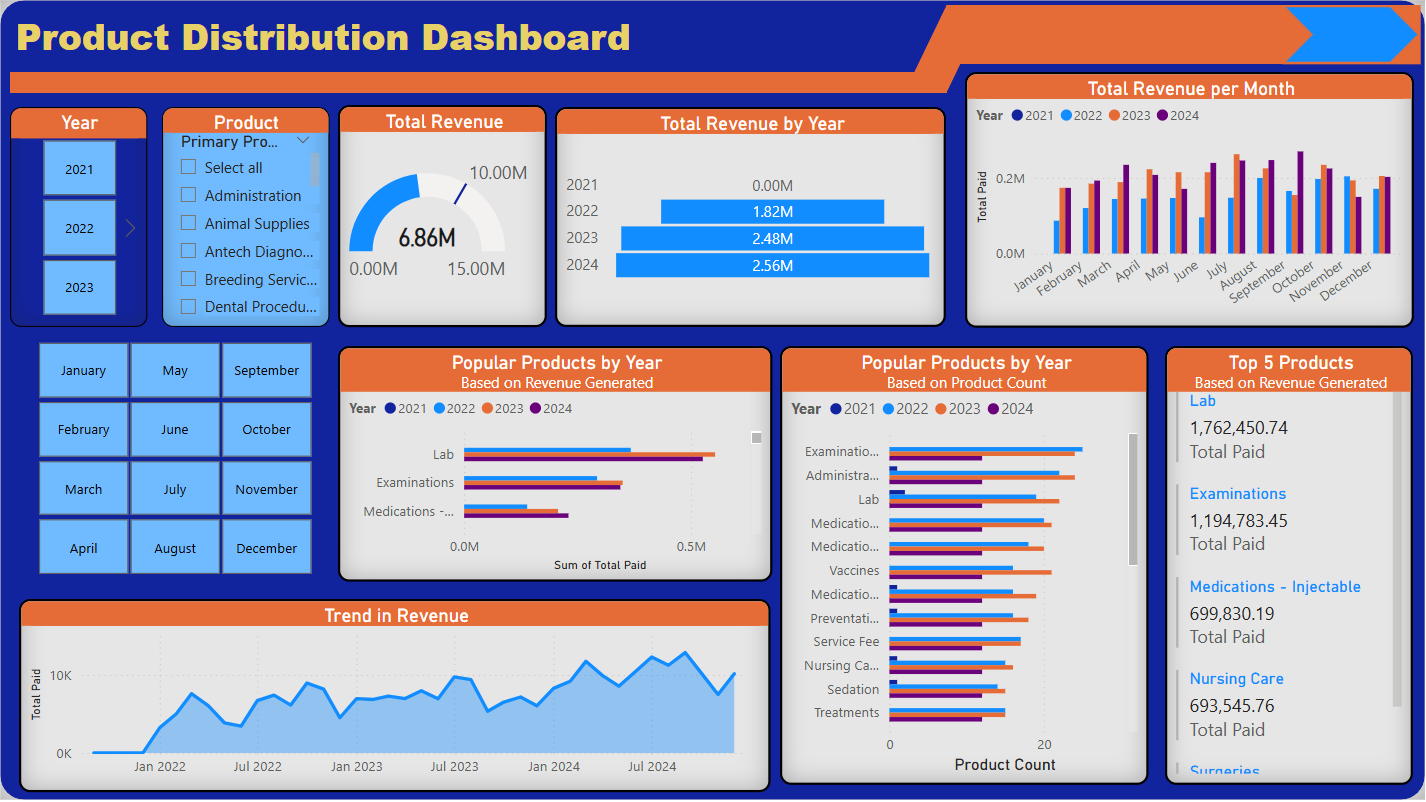

The page's visual inventory and layout, read from the dashboard file:
{"tool":"powerbi","page":{"name":"Products","canvas":[1280,720],"ordinal":1},"visuals":[{"type":"shape","box":[0,0,1279.7,720],"z":0},{"type":"slicer","fields":{"Values":["product group 22-23.Date.Variation.Date Hierarchy.Month"]},"box":[10.7,301.8,293.7,221.2],"z":1000},{"type":"gauge","title":"Total Revenue","fields":{"Y":["Sum(product group 22-23.Total Paid)"]},"box":[304.5,95.8,187.2,198.8],"z":2000},{"type":"slicer","title":"Product","fields":{"Values":["product group 22-23.Primary Product Group"]},"box":[146.9,97.6,149.6,197],"z":3000},{"type":"clusteredColumnChart","title":"Total Revenue per Month","fields":{"Y":["Sum(product group 22-23.Total Paid)"],"Category":["product group 22-23.Date.Variation.Date Hierarchy.Month"],"Series":["product group 22-23.Date.Variation.Date Hierarchy.Year"]},"box":[865.7,66.1,401.7,228.6],"z":4000},{"type":"multiRowCard","title":"Top 5 Products","fields":{"Values":["Sum(product group 22-23.Total Paid)","product group 22-23.Primary Product Group"]},"box":[1045.1,311.6,222.1,393.1],"z":5000},{"type":"slicer","title":"Year","fields":{"Values":["product group 22-23.Date.Variation.Date Hierarchy.Year"]},"box":[10.7,97.6,122.7,197],"z":6000},{"type":"clusteredBarChart","title":"Popular Products by Year","fields":{"Category":["product group 22-23.Primary Product Group"],"Y":["CountNonNull(product group 22-23.Primary Product Group)"],"Series":["product group 22-23.Date.Variation.Date Hierarchy.Year"]},"box":[700.3,311.6,330.4,393.1],"z":7000},{"type":"areaChart","title":"Trend in Revenue","fields":{"Category":["product group 22-23.Date.Variation.Date Hierarchy.Year","product group 22-23.Date.Variation.Date Hierarchy.Month"],"Y":["Avg(product group 22-23.Total Paid)"]},"box":[18.8,538.2,672.5,172.8],"z":8000},{"type":"shape","box":[849.9,6.3,306.3,52.8],"z":9000},{"type":"shape","box":[10.7,66.3,839.1,18.8],"z":10000},{"type":"shape","box":[811.3,6.3,76.1,78.8],"z":11000},{"type":"textbox","box":[10.7,6.3,807.8,60],"z":12000},{"type":"funnel","title":"Total Revenue by Year","fields":{"Category":["product group 22-23.Date.Variation.Date Hierarchy.Year"],"Y":["Sum(product group 22-23.Total Paid)"]},"box":[499,97.3,350.2,197.4],"z":13000},{"type":"clusteredBarChart","title":"Popular Products by Year","fields":{"Category":["product group 22-23.Primary Product Group"],"Y":["Sum(product group 22-23.Total Paid)"],"Series":["product group 22-23.Date.Variation.Date Hierarchy.Year"]},"box":[304.5,311.6,388.7,211.3],"z":14000},{"type":"shape","box":[1149.9,6.3,123.6,52.8],"z":15000}]}

Visuals, with their boxes in screenshot pixels (x1, y1, x2, y2), scaled from the page's 1280x720 canvas onto the 1426x802 screenshot:
shape: {"x1": 0, "y1": 0, "x2": 1425, "y2": 801}
slicer - product group 22-23.Date.Variation.Date Hierarchy.Month: {"x1": 12, "y1": 336, "x2": 339, "y2": 583}
"Total Revenue" gauge: {"x1": 339, "y1": 107, "x2": 548, "y2": 328}
"Product" slicer: {"x1": 164, "y1": 109, "x2": 330, "y2": 328}
"Total Revenue per Month" clusteredColumnChart: {"x1": 964, "y1": 74, "x2": 1412, "y2": 328}
"Top 5 Products" multiRowCard: {"x1": 1164, "y1": 347, "x2": 1412, "y2": 785}
"Year" slicer: {"x1": 12, "y1": 109, "x2": 149, "y2": 328}
"Popular Products by Year" clusteredBarChart: {"x1": 780, "y1": 347, "x2": 1148, "y2": 785}
"Trend in Revenue" areaChart: {"x1": 21, "y1": 599, "x2": 770, "y2": 792}
shape: {"x1": 947, "y1": 7, "x2": 1288, "y2": 66}
shape: {"x1": 12, "y1": 74, "x2": 947, "y2": 95}
shape: {"x1": 904, "y1": 7, "x2": 989, "y2": 95}
textbox: {"x1": 12, "y1": 7, "x2": 912, "y2": 74}
"Total Revenue by Year" funnel: {"x1": 556, "y1": 108, "x2": 946, "y2": 328}
"Popular Products by Year" clusteredBarChart: {"x1": 339, "y1": 347, "x2": 772, "y2": 582}
shape: {"x1": 1281, "y1": 7, "x2": 1419, "y2": 66}
